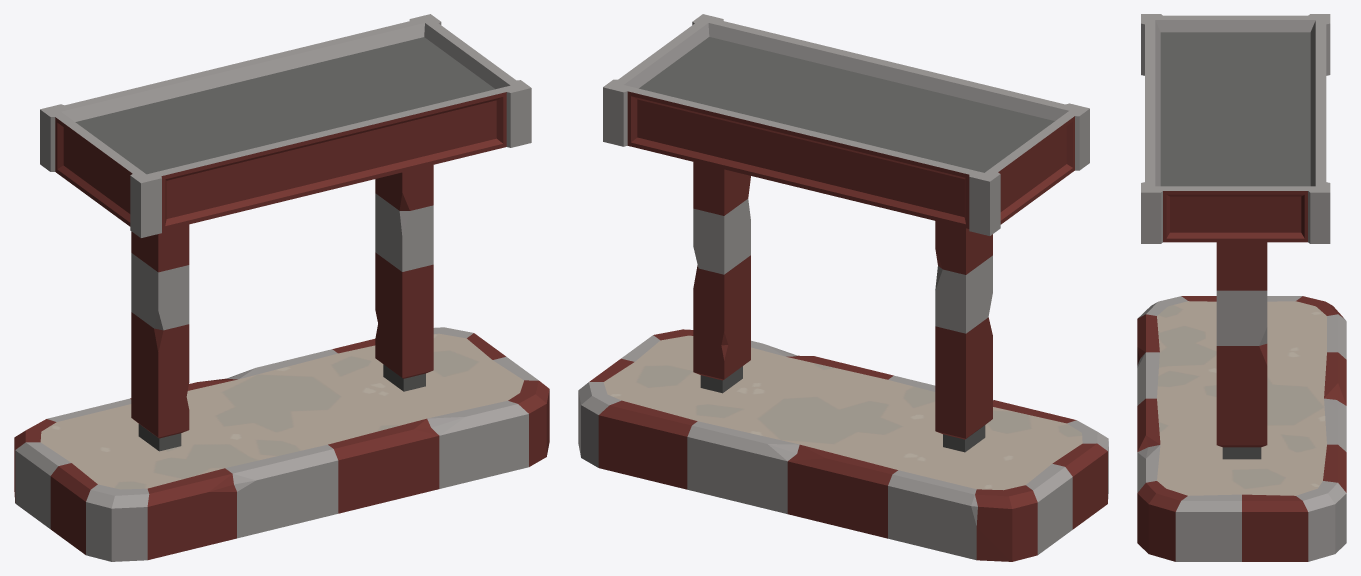
The model's file is SM_Prop_Gaspump_Cover_01.glb.
The picture shows the model from 3 angles, left to right: view 1: azimuth 30°, elevation 25°; view 2: azimuth 150°, elevation 25°; view 3: azimuth 270°, elevation 25°; orthographic projection. The views are drawn at different scales.
Visible parts, largest first — view 1: SM_Prop_Gaspump_Cover_01; view 2: SM_Prop_Gaspump_Cover_01; view 3: SM_Prop_Gaspump_Cover_01.
Boxes of the visible parts, x1,y1,x2,y2 form: SM_Prop_Gaspump_Cover_01: (14,14,549,561); SM_Prop_Gaspump_Cover_01: (578,14,1108,561); SM_Prop_Gaspump_Cover_01: (1137,14,1346,561).
Bounding box in the file's own units: 5.81 × 4.51 × 2.43.
1 material, 1 textured.
